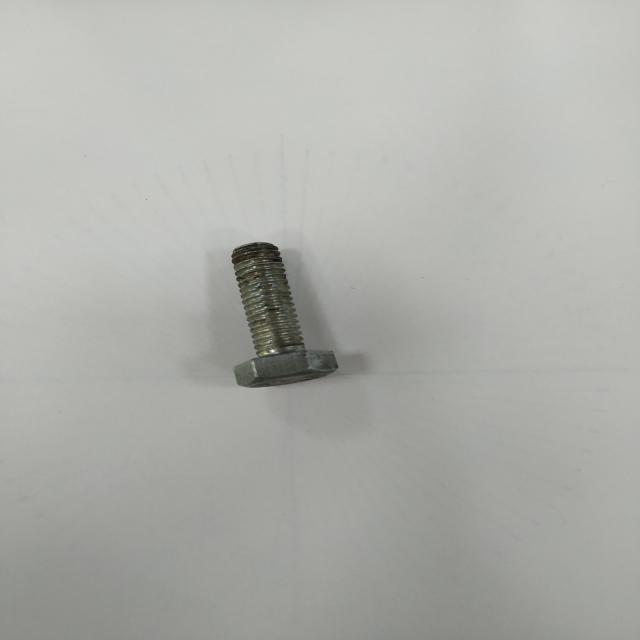Bolt: (230, 243, 338, 389)
